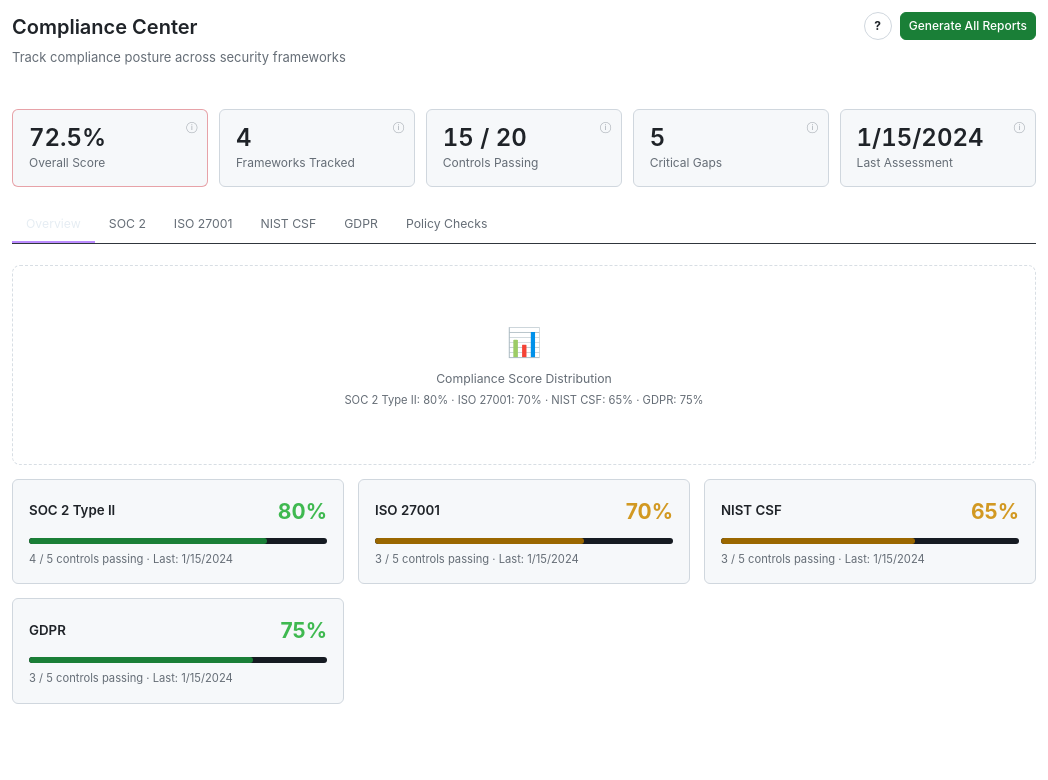
Test: CompliancePage › navigates to SOC 2 tab on click
Click the tab "SOC 2" at [127, 226], box [95,208,160,243]
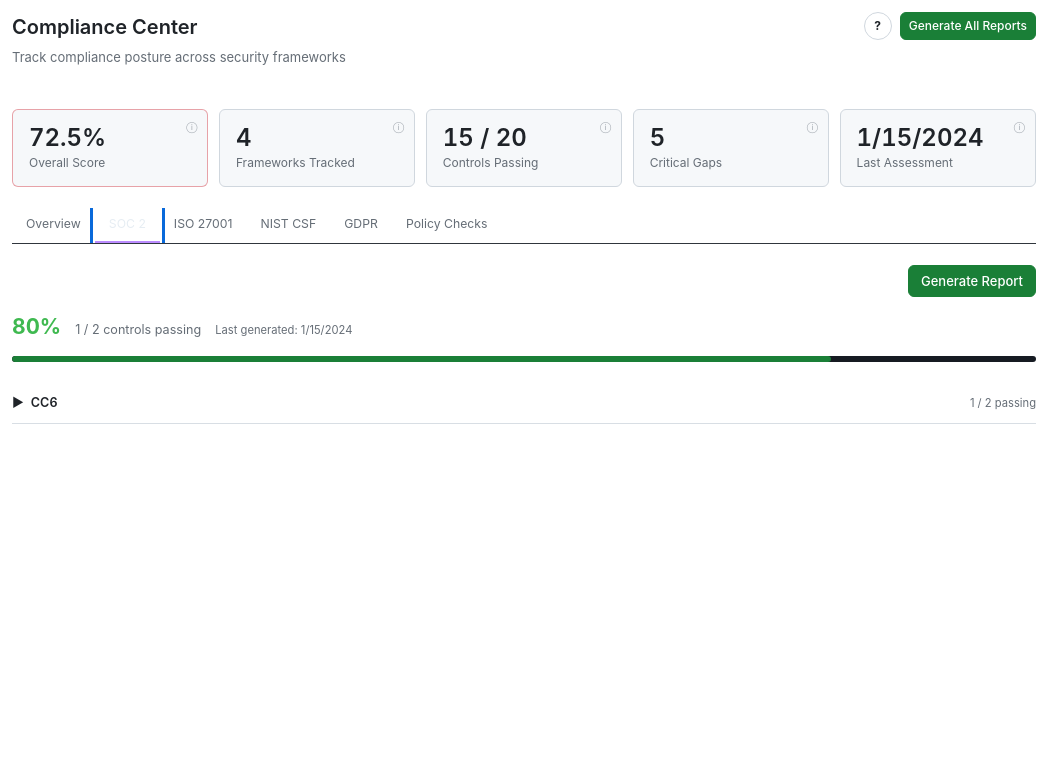
Check: the button "Generate Report" is shown, box [908,265,1036,297]
